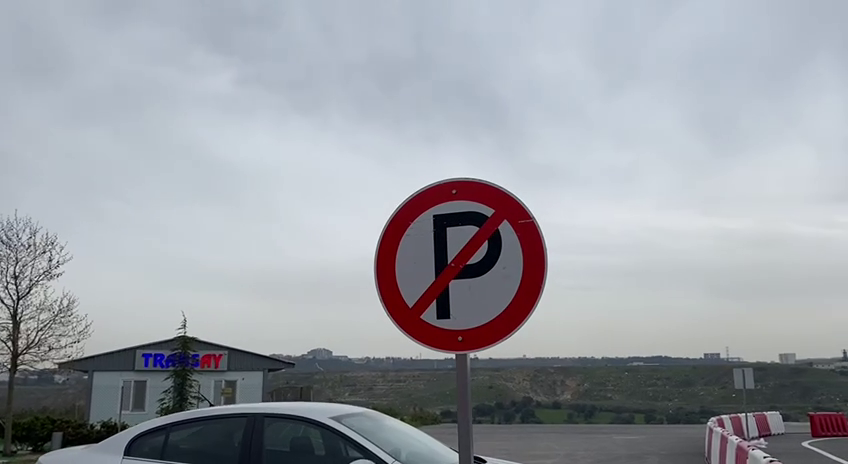noparking: (368, 173, 554, 357)
